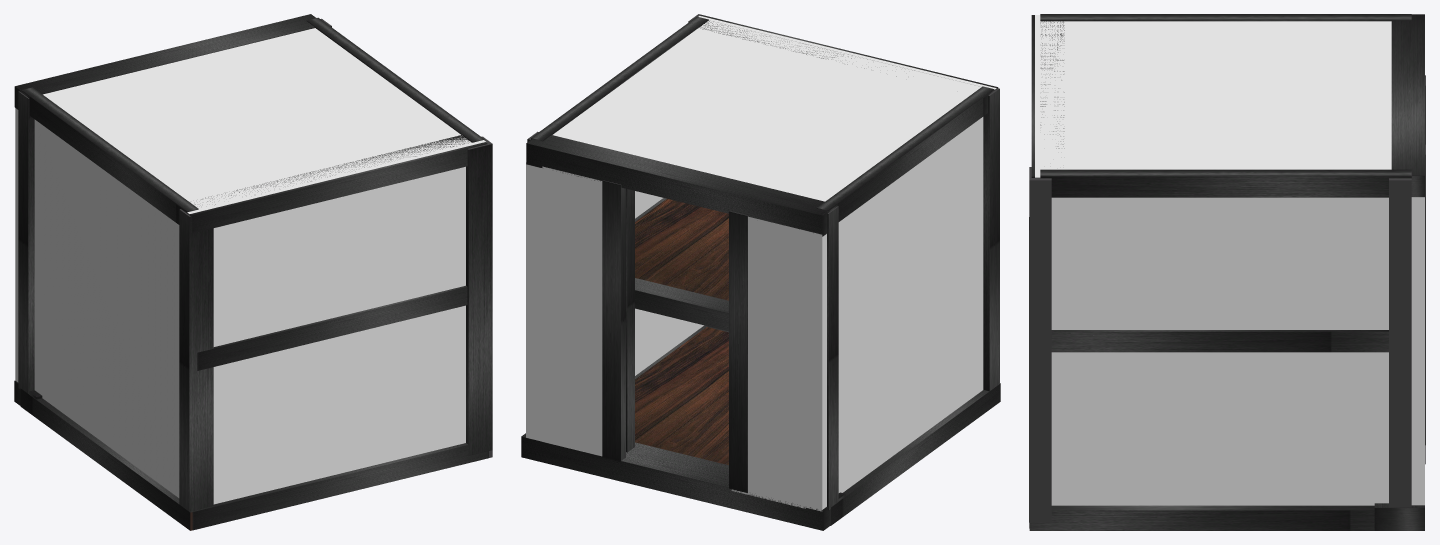
3 renders of one model, left to right at view 1: azimuth 30°, elevation 25°; view 2: azimuth 150°, elevation 25°; view 3: azimuth 270°, elevation 25°, orthographic. The views are drawn at different scales.
Parts seen in each view (by area): view 1: node_id71 (×12), node_id59, node_id62; view 2: node_id71 (×17), node_id50, node_id53, node_id62, node_id56, node_id68; view 3: node_id71 (×12), node_id65.
Part boxes in pixels (box(x1,y1,x2,y2)): node_id71 (×12): box(14, 14, 492, 530); node_id59: box(197, 285, 467, 370); node_id62: box(20, 389, 214, 530); node_id71 (×17): box(521, 15, 999, 530); node_id50: box(635, 327, 728, 465); node_id53: box(635, 198, 728, 300); node_id62: box(830, 383, 1000, 525); node_id56: box(635, 278, 728, 331); node_id68: box(626, 188, 634, 452); node_id71 (×12): box(1029, 14, 1424, 530); node_id65: box(1389, 178, 1411, 507).
Bounding box in the file's own units: 0.512 × 0.5103 × 0.52.
36 materials, 24 textured.
